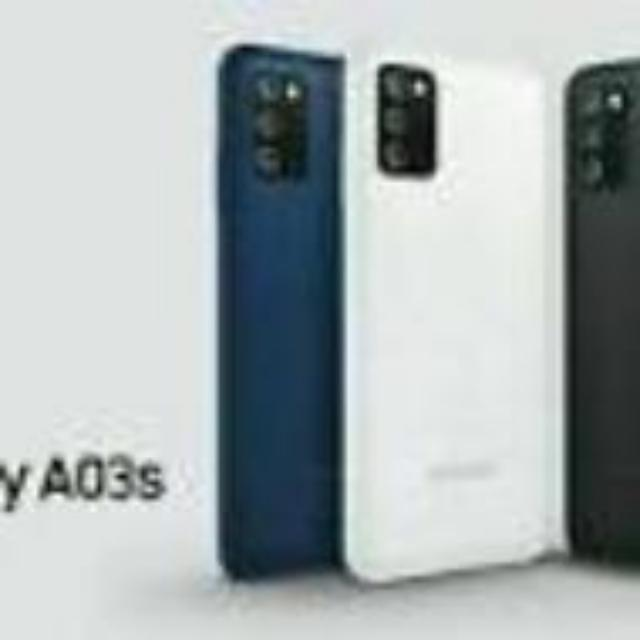phone: (560, 45, 640, 563)
